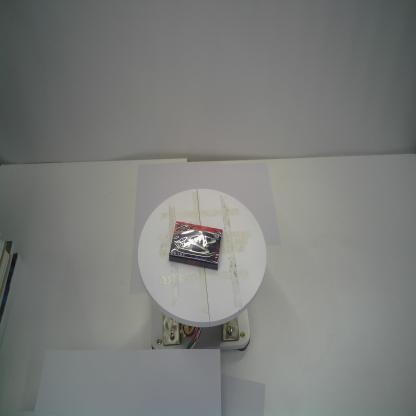Gum: (167, 219, 224, 272)
